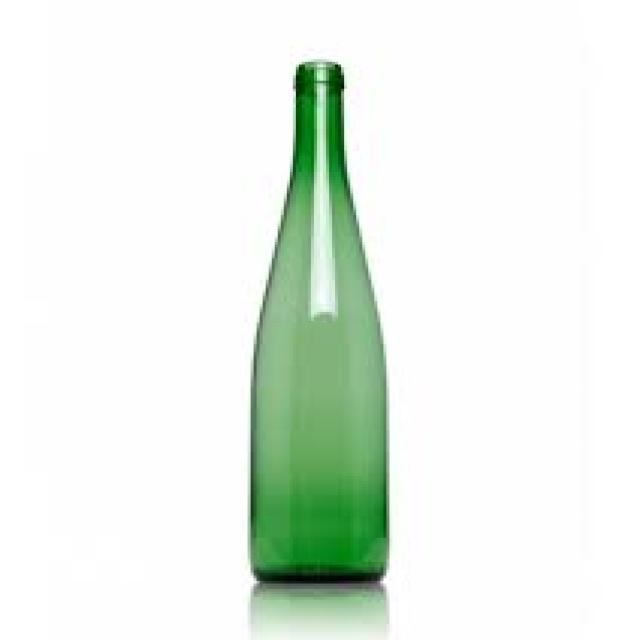glass: (245, 59, 387, 581)
